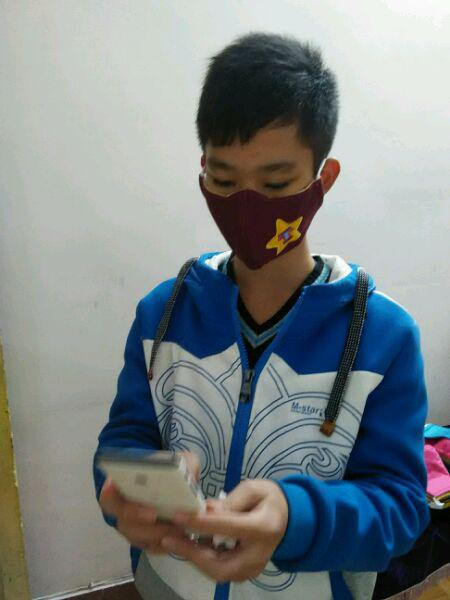OK: (203, 148, 323, 265)
